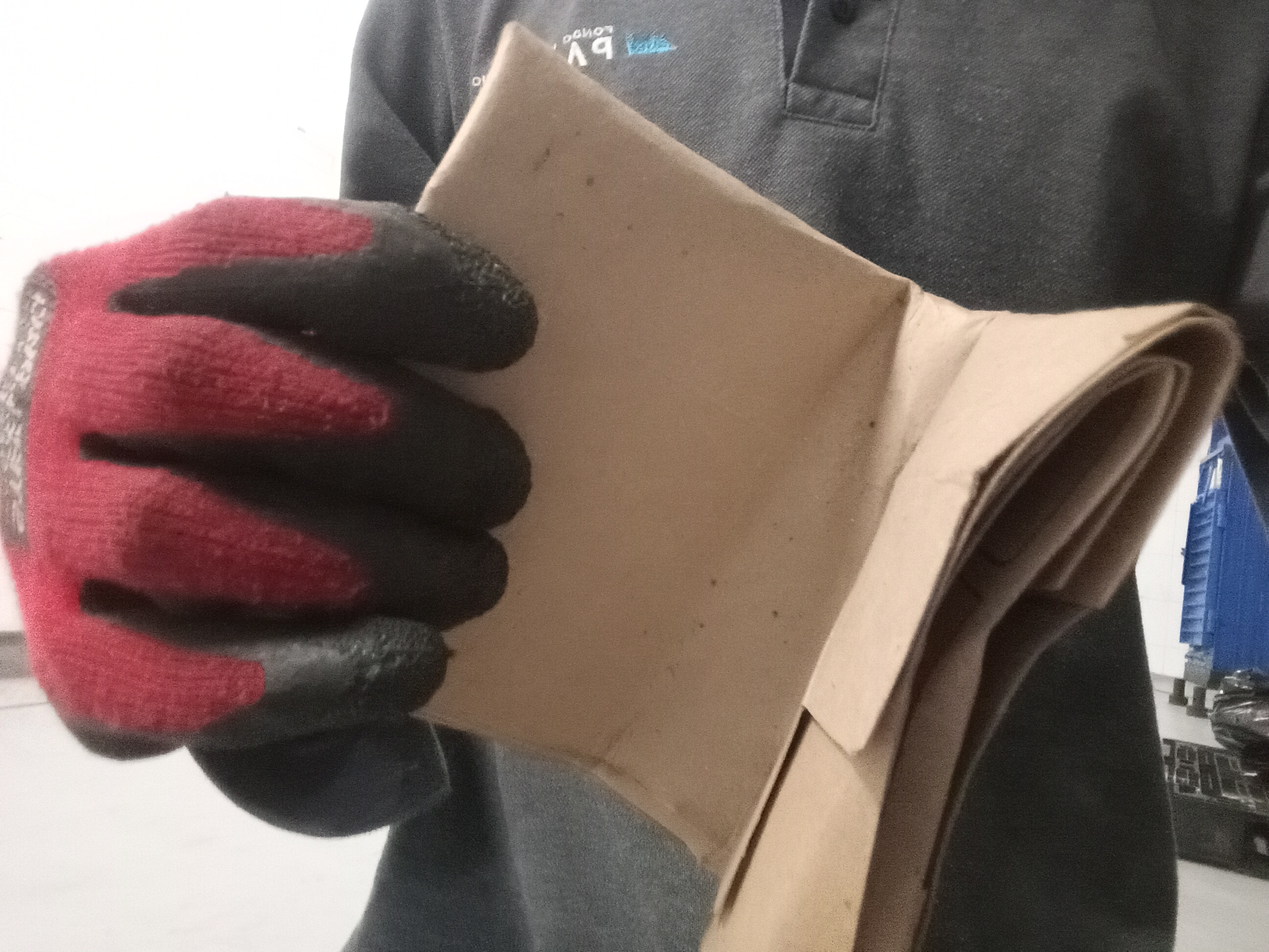Papel: (393, 16, 1244, 952)
